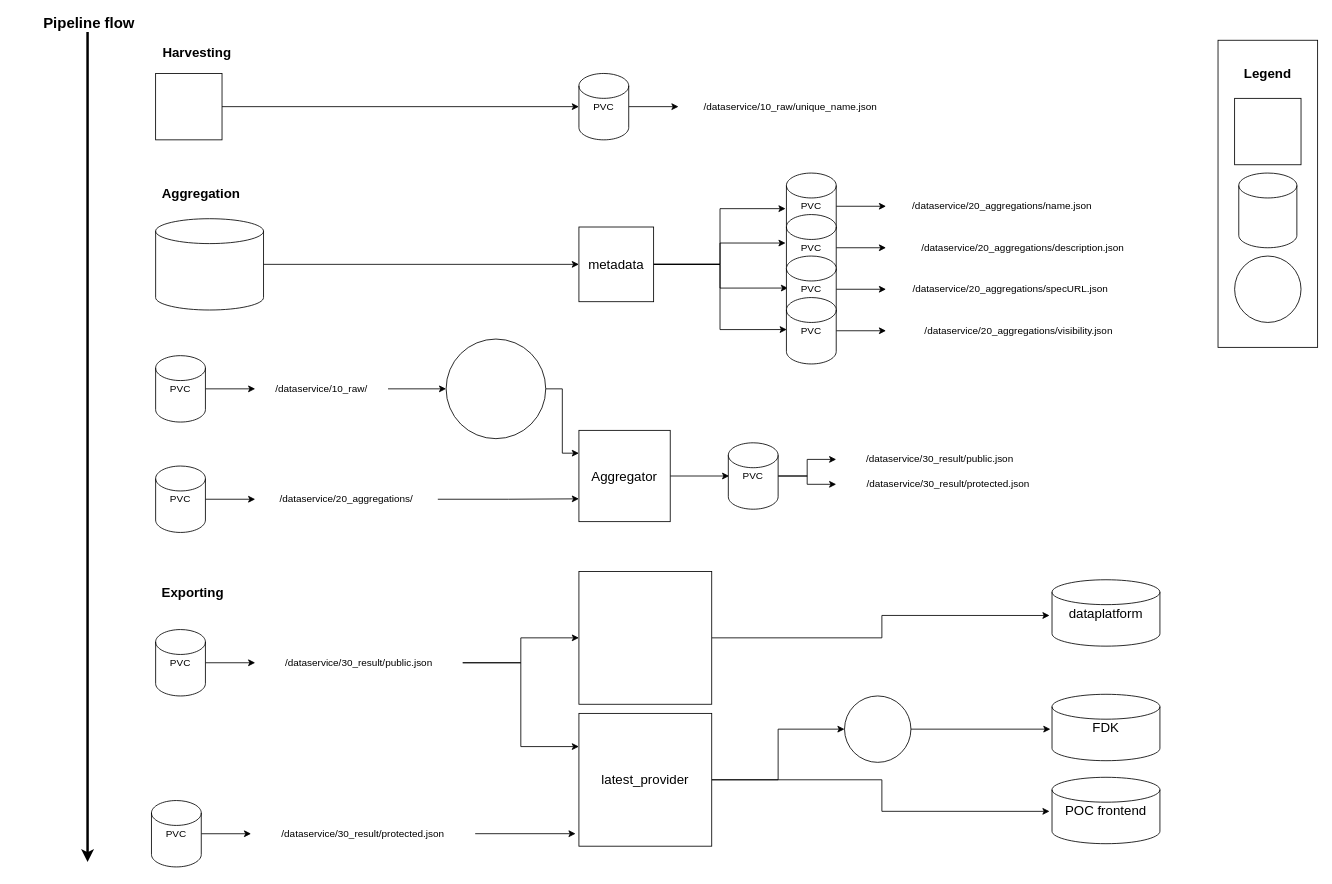
Some shapes in this 1332 by 884 pixel diagram are drawn without their labels. The box of each missing label's shape, as (x1, y1, x2, y2) in pixels:
Distributor: (578, 571, 712, 704)
Harvester: (155, 73, 222, 140)
json_merger: (445, 338, 546, 439)
POC frontend digest: (155, 218, 264, 310)
Script: (1234, 255, 1301, 322)
Service: (1234, 98, 1301, 165)
Storage: (1238, 172, 1297, 248)
turtler: (844, 695, 911, 762)
